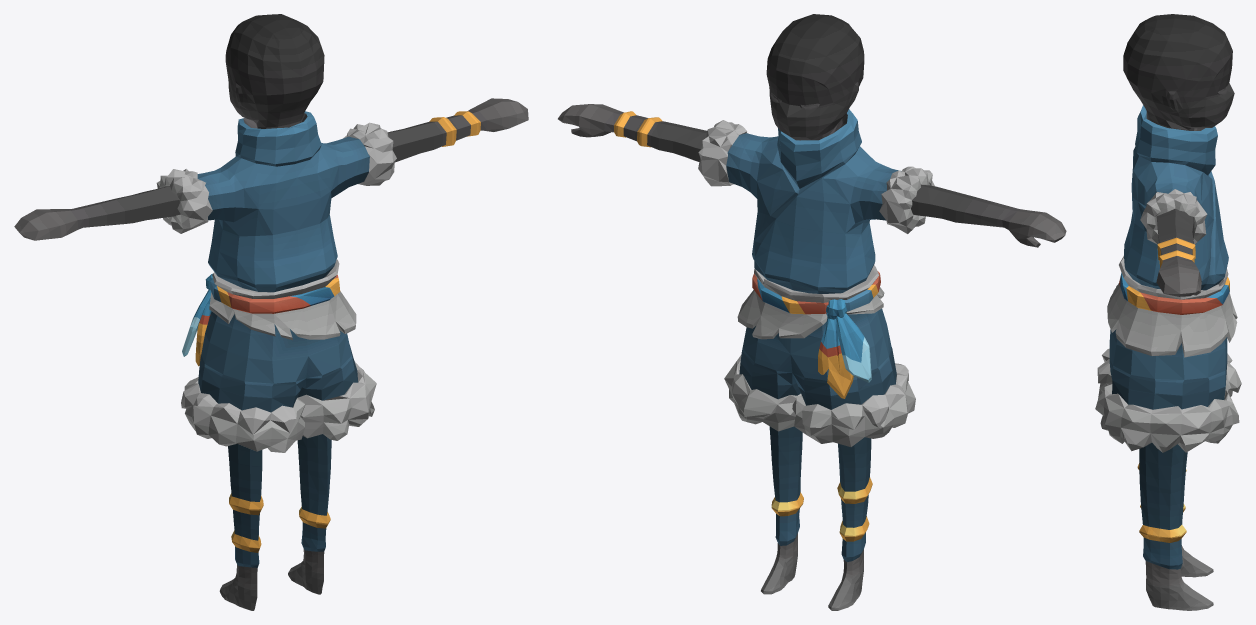
The model's file is CharSkyKid_Body_AP28FurTrim.glb.
3 views of the same model, side by side, from view 1: azimuth 30°, elevation 25°; view 2: azimuth 150°, elevation 25°; view 3: azimuth 270°, elevation 25° (orthographic).
Parts seen in each view (by area): view 1: CharSkyKid_Body_AP28FurTrim; view 2: CharSkyKid_Body_AP28FurTrim; view 3: CharSkyKid_Body_AP28FurTrim.
Boxes of the visible parts, <box> form: CharSkyKid_Body_AP28FurTrim: <box>14,14,528,610</box>; CharSkyKid_Body_AP28FurTrim: <box>558,14,1066,610</box>; CharSkyKid_Body_AP28FurTrim: <box>1095,14,1241,610</box>.
Bounding box in the file's own units: 13.83 × 14.94 × 3.47.
Materials: 1 (1 with a texture image).
